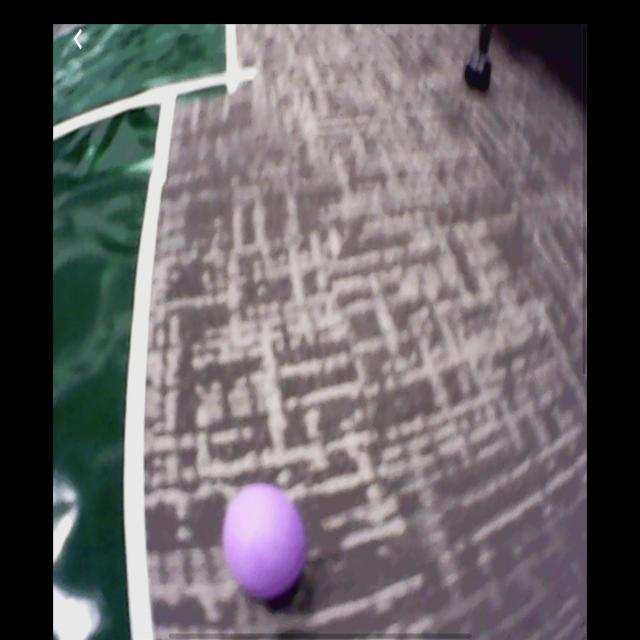ball: (223, 486, 304, 604)
